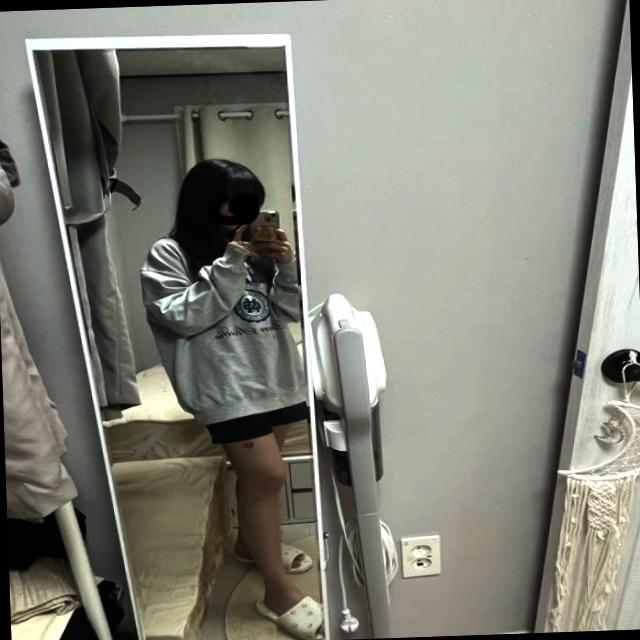mtm: (140, 228, 310, 426)
skirt: (200, 396, 308, 448)
